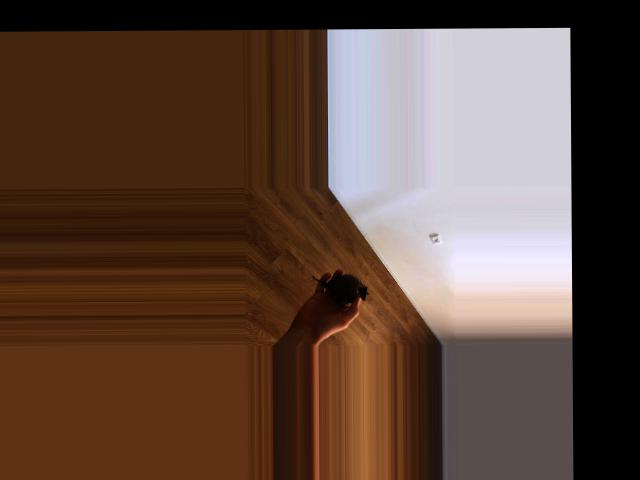beet: (312, 273, 367, 306)
